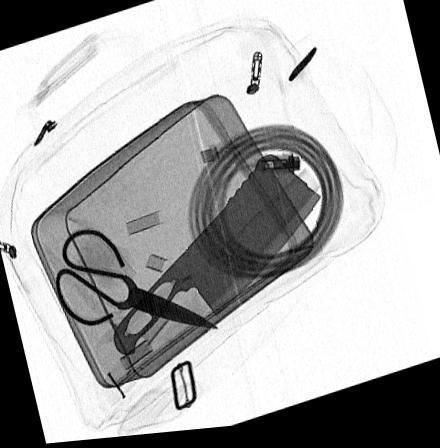Knife: (111, 158, 322, 355)
Scissors: (55, 229, 218, 331)
